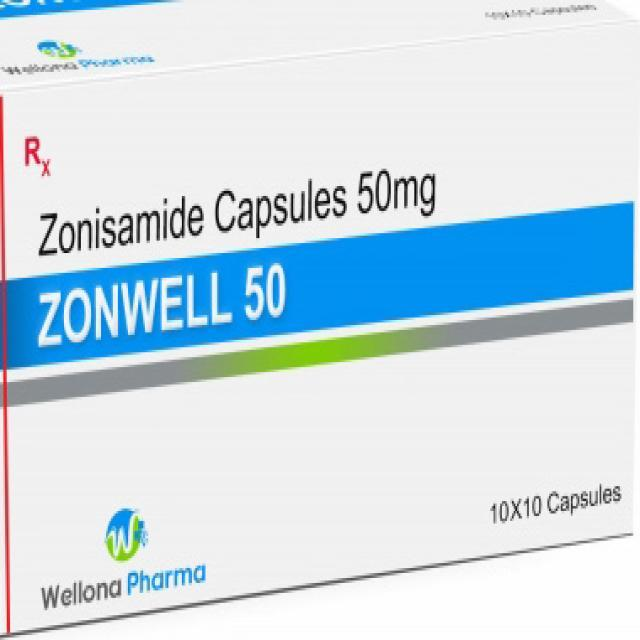drug-name: (35, 259, 293, 349)
